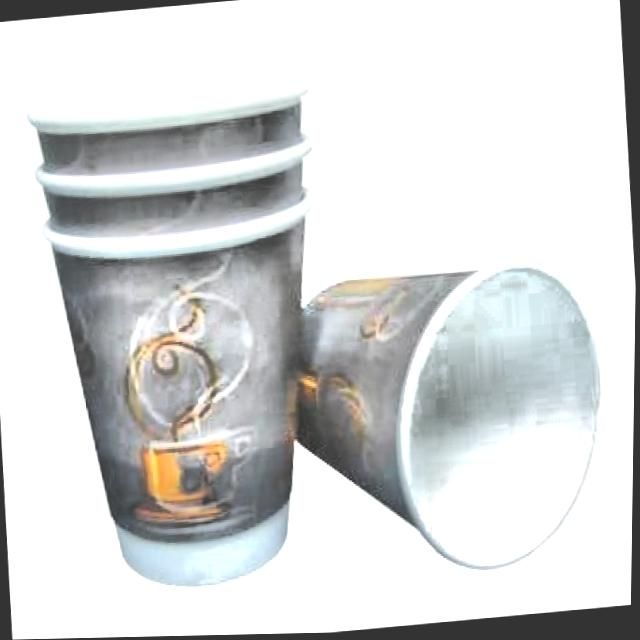Cup: (5, 49, 335, 605), (275, 229, 629, 627)
